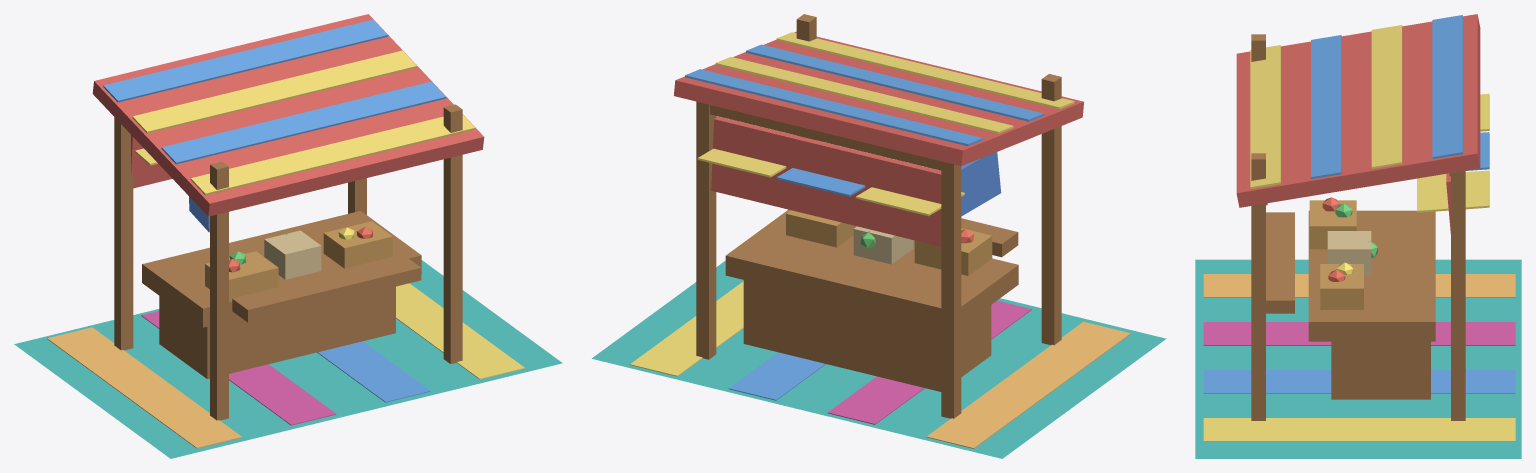
File: NPC_Merchant_Stall.glb
The picture shows the model from 3 angles, left to right: view 1: azimuth 30°, elevation 25°; view 2: azimuth 150°, elevation 25°; view 3: azimuth 270°, elevation 25°; orthographic projection. The views are drawn at different scales.
Parts seen in each view (by area): view 1: NPCStall_Canopy, NPCStall_GroundRug, NPCStall_CounterBase, NPCStall_RugStripe_1, NPCStall_CounterTop, NPCStall_CanopyStripe_3, NPCStall_CanopyStripe_2, NPCStall_CanopyStripe_4, NPCStall_CanopyStripe_1, NPCStall_BackShelf, NPCStall_Post_2_1, NPCStall_Post_1_1 (+9 smaller); view 2: NPCStall_GroundRug, NPCStall_Canopy, NPCStall_FrontCloth, NPCStall_CounterBase, NPCStall_CounterTop, NPCStall_RugStripe_1, NPCStall_Post_1_2, NPCStall_Post_1_1, NPCStall_Post_2_2, NPCStall_CanopyStripe_3, NPCStall_CanopyStripe_4, NPCStall_CanopyStripe_2 (+13 smaller); view 3: NPCStall_GroundRug, NPCStall_Canopy, NPCStall_CounterTop, NPCStall_RugStripe_4, NPCStall_CounterBase, NPCStall_CanopyStripe_3, NPCStall_RugStripe_3, NPCStall_CanopyStripe_4, NPCStall_CanopyStripe_2, NPCStall_RugStripe_2, NPCStall_CanopyStripe_1, NPCStall_Post_2_2 (+10 smaller).
Part boxes in pixels (x1,y1,x2,y2): NPCStall_Canopy: (92,14,484,216); NPCStall_GroundRug: (14,260,562,458); NPCStall_CounterBase: (159,286,395,378); NPCStall_RugStripe_1: (47,327,242,448); NPCStall_CounterTop: (142,211,421,327); NPCStall_CanopyStripe_3: (132,50,416,133); NPCStall_CanopyStripe_2: (161,81,446,164); NPCStall_CanopyStripe_4: (103,19,387,102); NPCStall_CanopyStripe_1: (190,114,475,195); NPCStall_BackShelf: (232,256,421,322); NPCStall_Post_2_1: (443,104,462,363); NPCStall_Post_1_1: (210,161,228,420); NPCStall_GroundRug: (592,260,1166,458); NPCStall_Canopy: (674,31,1083,166); NPCStall_FrontCloth: (711,116,941,246); NPCStall_CounterBase: (743,280,991,391); NPCStall_CounterTop: (725,209,1018,327); NPCStall_RugStripe_1: (926,321,1130,448); NPCStall_Post_1_2: (941,161,961,418); NPCStall_Post_1_1: (1041,74,1061,345); NPCStall_Post_2_2: (696,101,716,359); NPCStall_CanopyStripe_3: (715,57,1013,133); NPCStall_CanopyStripe_4: (685,69,983,146); NPCStall_CanopyStripe_2: (746,44,1044,121); NPCStall_GroundRug: (1195,259,1521,458); NPCStall_Canopy: (1236,14,1480,207); NPCStall_CounterTop: (1308,210,1435,341); NPCStall_RugStripe_4: (1203,418,1515,441); NPCStall_CounterBase: (1331,341,1430,399); NPCStall_CanopyStripe_3: (1371,25,1402,168); NPCStall_RugStripe_3: (1203,370,1515,393); NPCStall_CanopyStripe_4: (1432,15,1462,158); NPCStall_CanopyStripe_2: (1311,35,1341,178); NPCStall_RugStripe_2: (1203,322,1515,345); NPCStall_CanopyStripe_1: (1250,45,1280,188); NPCStall_Post_2_2: (1451,170,1465,420).
Size of the model in its own units: 5.2 by 3.36 by 3.6.
